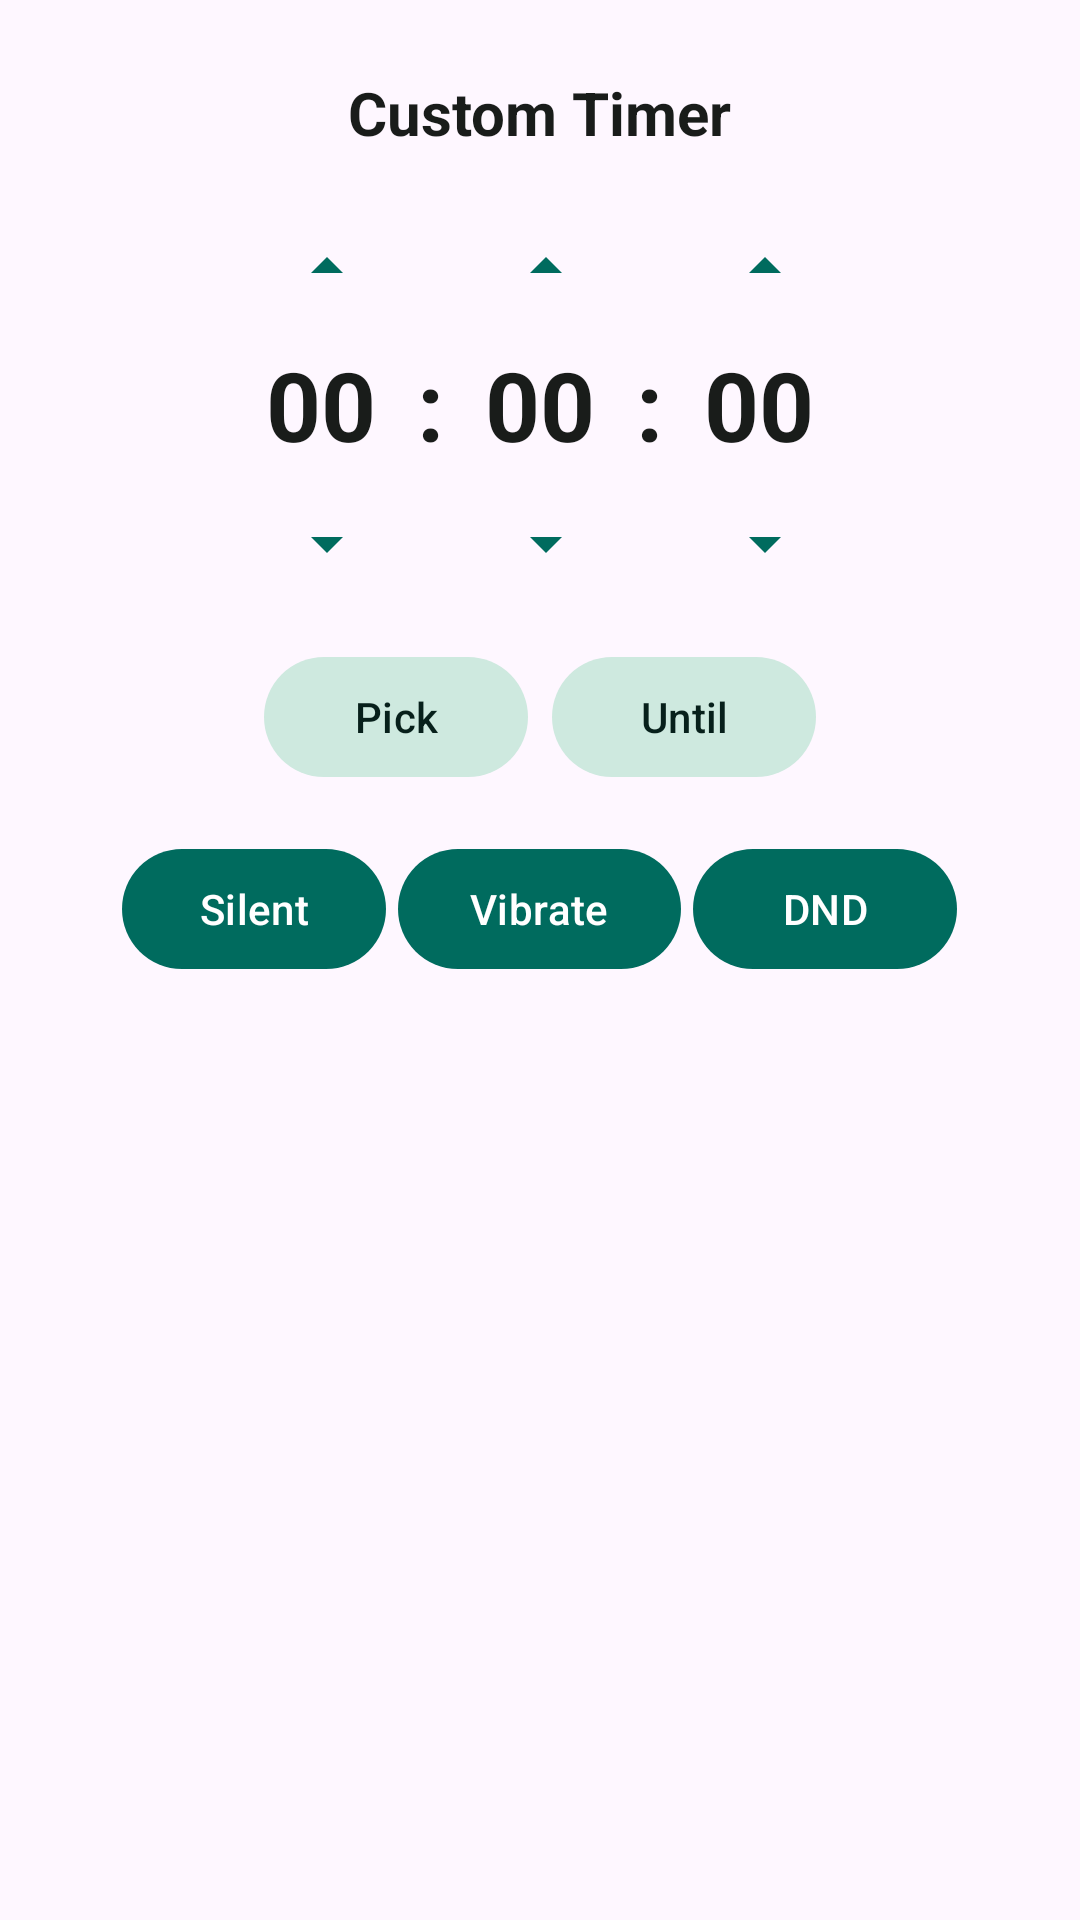

Icon bounding boxes for this 1080px×1920px phone screenshot, format box=[x1, y1, x2, y2]:
arrow down: box=[311, 537, 343, 553], box=[530, 537, 562, 553], box=[749, 537, 781, 553]
arrow up: box=[311, 257, 343, 273], box=[530, 257, 562, 273], box=[749, 257, 781, 273]
